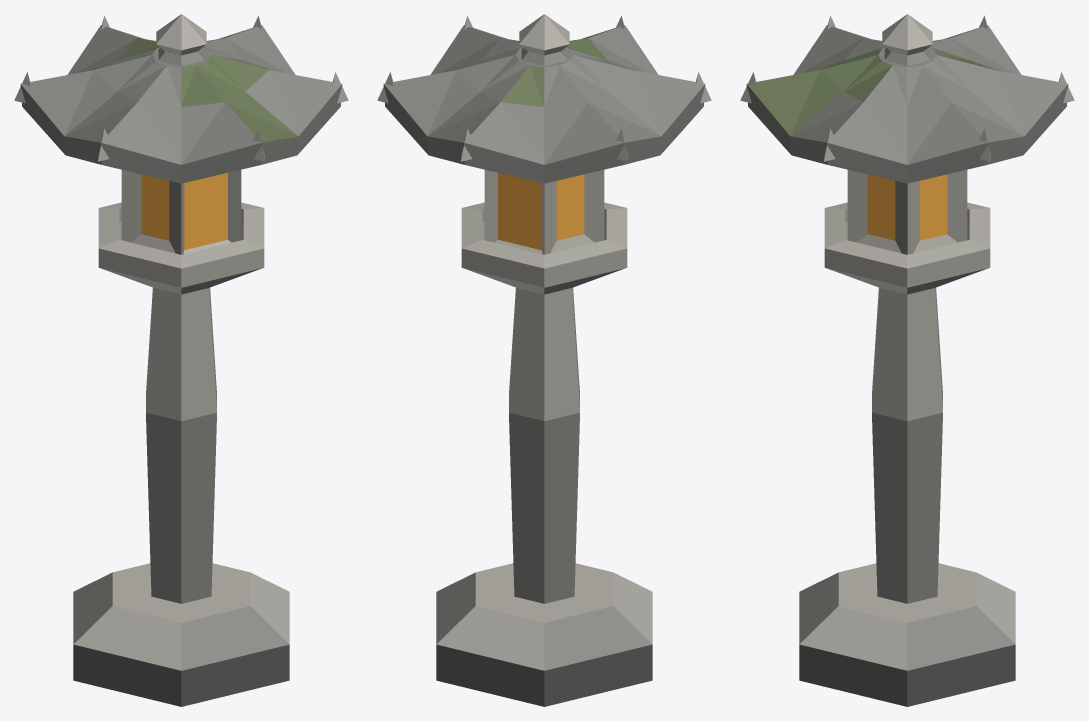
File: lantern_stone_tall.fbx
The picture shows the model from 3 angles, left to right: view 1: azimuth 30°, elevation 25°; view 2: azimuth 150°, elevation 25°; view 3: azimuth 270°, elevation 25°; orthographic projection.
Parts seen in each view (by area): view 1: lantern_stone_tall; view 2: lantern_stone_tall; view 3: lantern_stone_tall.
Boxes of the visible parts, x1,y1,x2,y2 form: lantern_stone_tall: (14, 14, 348, 706); lantern_stone_tall: (377, 14, 711, 706); lantern_stone_tall: (740, 14, 1074, 706).
Bounding box in the file's own units: 1.09 × 2.66 × 1.26.
